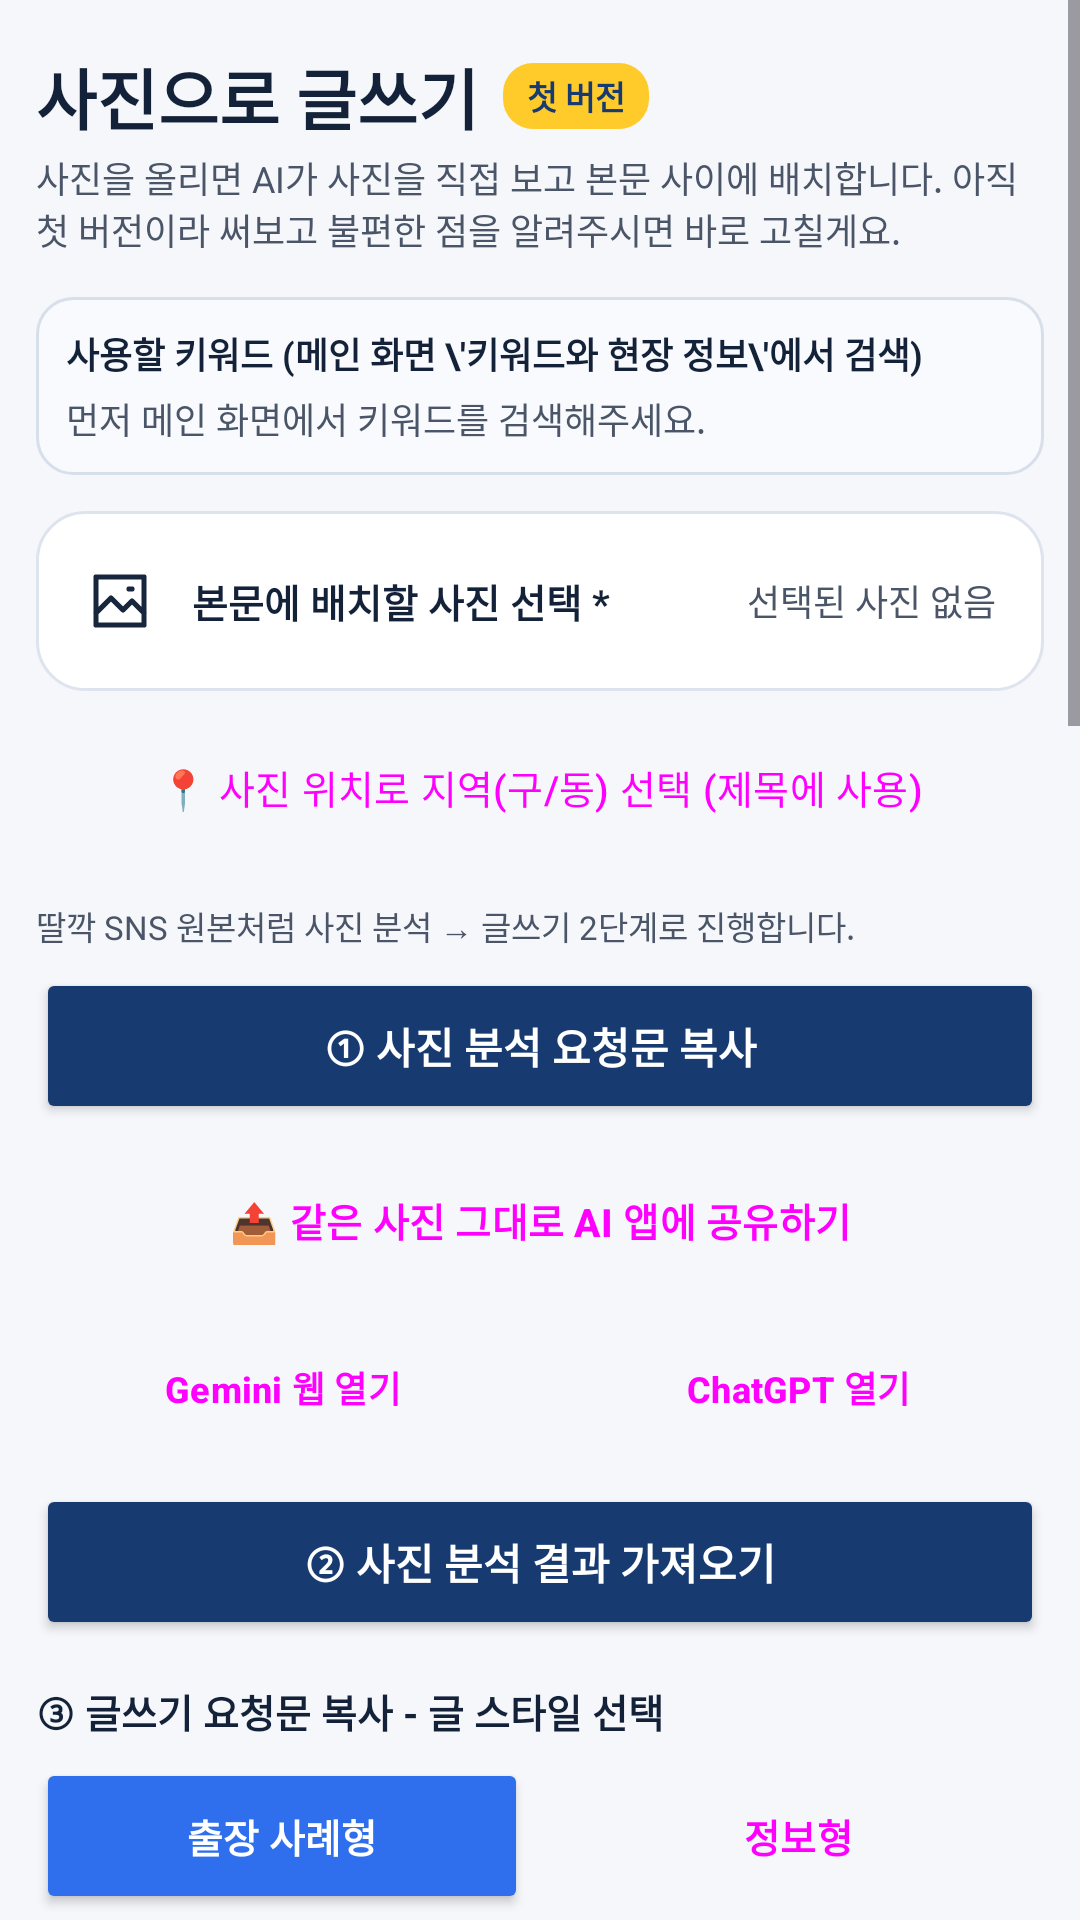

Icons on this 1080x1920 Android screen, each with the point to tap as (x,y):
studio photo: (120,601)
